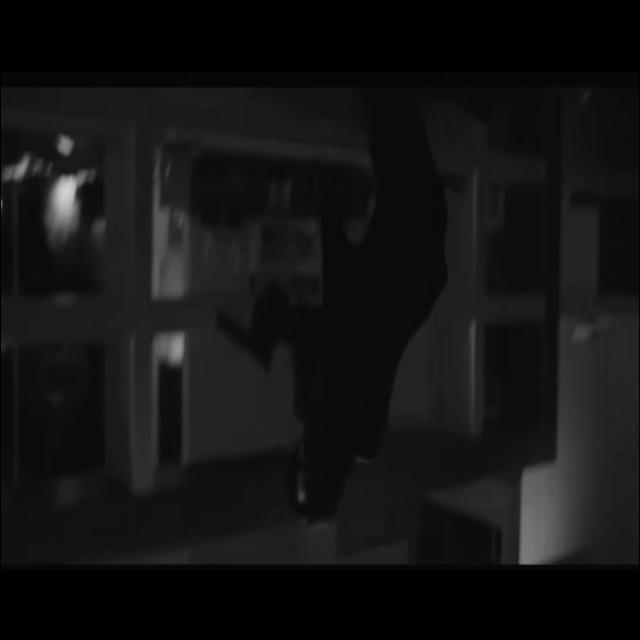weapons: (200, 266, 290, 406)
